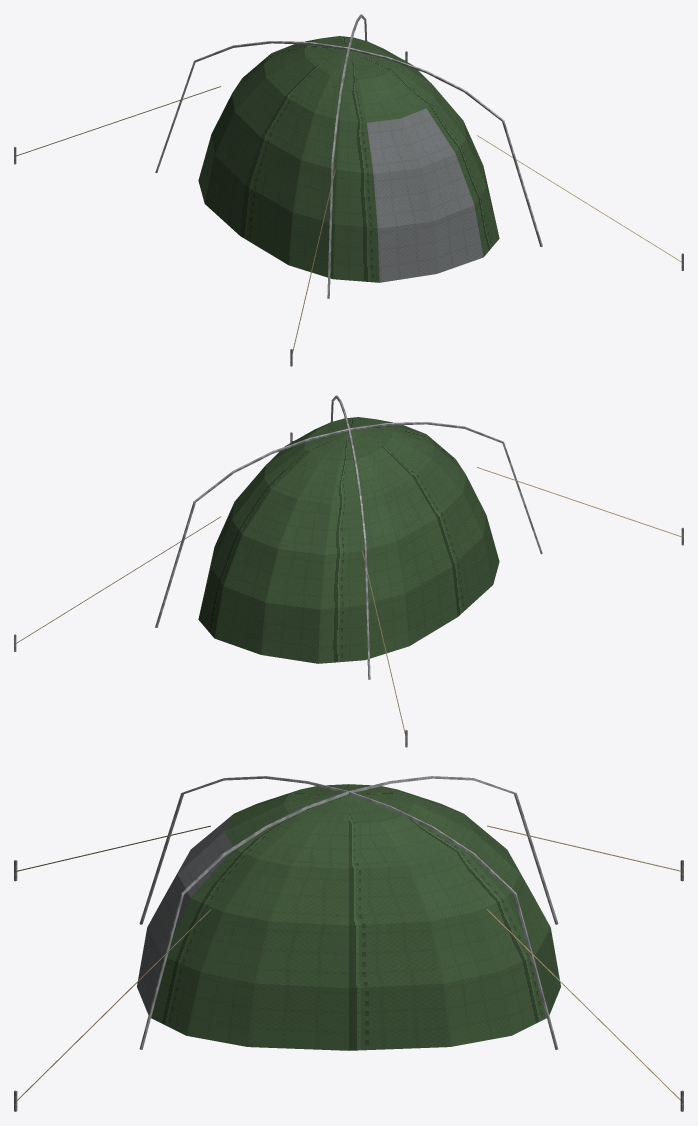
The model's file is CAMP_Tent_Dome_Small_01.glb.
3 views of the same model, one above another, from view 1: azimuth 30°, elevation 25°; view 2: azimuth 150°, elevation 25°; view 3: azimuth 270°, elevation 25° (orthographic). The views are drawn at different scales.
Parts seen in each view (by area): view 1: CAMP_Tent_Dome_Small_01; view 2: CAMP_Tent_Dome_Small_01; view 3: CAMP_Tent_Dome_Small_01.
Boxes of the visible parts, box(x1,y1,x2,y2) form: CAMP_Tent_Dome_Small_01: box(14, 14, 683, 366); CAMP_Tent_Dome_Small_01: box(14, 395, 683, 747); CAMP_Tent_Dome_Small_01: box(14, 776, 683, 1111).
Size of the model in its own units: 2.72 by 1.12 by 3.32.
Materials: 5 (5 with a texture image).
